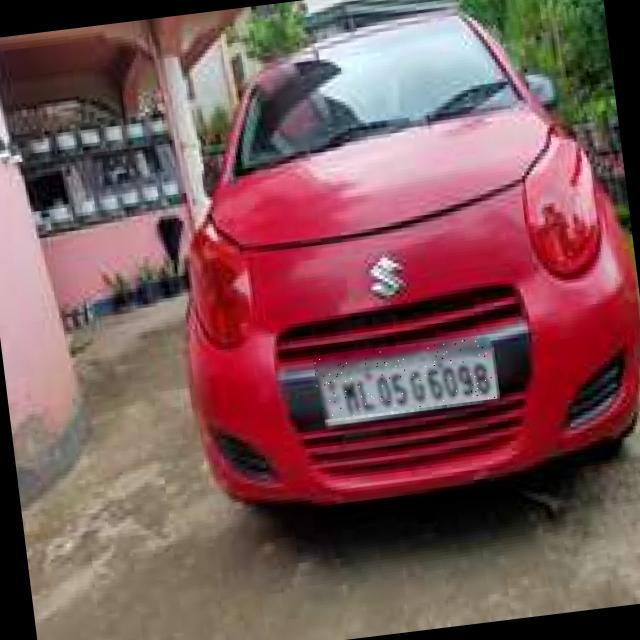Plate: (314, 338, 498, 421)
